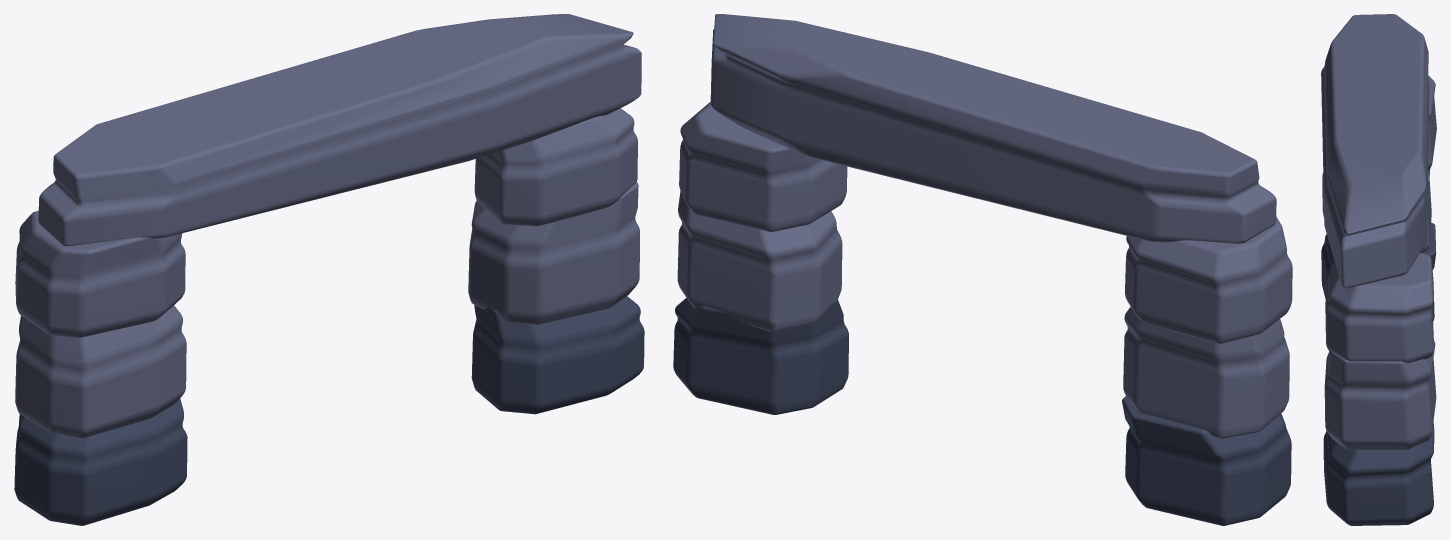
File: SM_CC_Portal.fbx
The picture shows the model from 3 angles, left to right: view 1: azimuth 30°, elevation 25°; view 2: azimuth 150°, elevation 25°; view 3: azimuth 270°, elevation 25°; orthographic projection. The views are drawn at different scales.
Visible parts, largest first — view 1: SM_CC_Portal; view 2: SM_CC_Portal; view 3: SM_CC_Portal.
Boxes of the visible parts, bbox=[...] form: SM_CC_Portal: bbox=[14, 14, 644, 525]; SM_CC_Portal: bbox=[673, 14, 1292, 525]; SM_CC_Portal: bbox=[1321, 14, 1436, 525].
Bounding box in the file's own units: 6 × 1.19 × 3.5.
